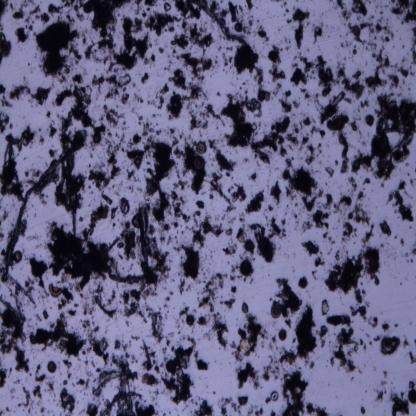Background material: (43, 222, 114, 282), (320, 246, 382, 293), (80, 0, 129, 54), (32, 19, 74, 79), (29, 320, 88, 361), (161, 337, 196, 406), (282, 371, 330, 415), (352, 129, 397, 175), (249, 114, 291, 162), (114, 16, 151, 70), (220, 90, 254, 146), (145, 122, 177, 181), (149, 208, 173, 286), (0, 289, 27, 354), (236, 300, 263, 364), (0, 132, 26, 197), (329, 329, 360, 376), (181, 140, 207, 195), (316, 92, 353, 129), (375, 94, 416, 127), (84, 318, 110, 369), (234, 47, 266, 88), (80, 284, 118, 318), (136, 339, 161, 390), (171, 22, 213, 52), (274, 277, 302, 320), (296, 302, 316, 361), (137, 202, 149, 299), (248, 220, 275, 261), (209, 139, 239, 175), (114, 215, 136, 264), (385, 190, 416, 224), (173, 66, 202, 102), (120, 289, 150, 323), (288, 166, 320, 197), (199, 273, 225, 311), (208, 178, 236, 212), (11, 82, 52, 105), (316, 52, 337, 95), (338, 67, 366, 99), (87, 201, 111, 238), (366, 52, 390, 89), (179, 245, 201, 285), (170, 186, 190, 230), (289, 54, 316, 86), (107, 72, 132, 106), (143, 11, 181, 33), (266, 44, 287, 83), (293, 6, 311, 51), (348, 304, 379, 330), (181, 54, 210, 81), (194, 398, 240, 415), (235, 362, 260, 392), (183, 106, 217, 128), (146, 302, 164, 343), (106, 132, 122, 178), (72, 74, 90, 114), (209, 313, 230, 347), (336, 129, 350, 175), (348, 21, 374, 45), (198, 216, 225, 239), (291, 211, 313, 238), (389, 0, 416, 22), (84, 35, 102, 66), (55, 285, 75, 312), (245, 188, 265, 215), (174, 1, 202, 20), (389, 391, 411, 415), (13, 345, 30, 376), (216, 42, 233, 72), (267, 218, 288, 242), (379, 335, 401, 357), (100, 104, 122, 126), (289, 118, 312, 139), (349, 203, 372, 224), (87, 168, 110, 189), (268, 180, 284, 209), (169, 92, 185, 120), (134, 397, 157, 416), (278, 342, 296, 366), (126, 150, 145, 172), (60, 387, 76, 413), (194, 348, 210, 374), (54, 88, 74, 108), (312, 210, 330, 232), (22, 166, 42, 185), (298, 239, 321, 255), (30, 256, 48, 276), (229, 182, 247, 202), (360, 224, 375, 247), (340, 221, 358, 240), (375, 21, 395, 38), (326, 316, 352, 329), (84, 136, 97, 162), (157, 82, 169, 110), (17, 385, 30, 410), (300, 194, 318, 212), (247, 97, 264, 116), (13, 26, 29, 46), (263, 360, 279, 380), (20, 123, 35, 144), (67, 45, 82, 66), (0, 110, 13, 134), (0, 85, 13, 109), (280, 90, 294, 112), (256, 23, 270, 45), (192, 227, 206, 249), (410, 25, 416, 74), (318, 321, 328, 350), (335, 1, 351, 19), (38, 278, 51, 300), (101, 54, 116, 73), (228, 263, 241, 284), (110, 350, 126, 367), (380, 219, 394, 238), (24, 291, 38, 310), (62, 355, 73, 379), (118, 196, 131, 216), (351, 1, 368, 16), (45, 378, 57, 399), (334, 195, 353, 208), (388, 72, 400, 92), (322, 190, 334, 210), (332, 206, 348, 221), (123, 351, 140, 365), (35, 363, 47, 382), (29, 6, 43, 22), (12, 5, 26, 21), (372, 387, 385, 404), (312, 25, 323, 45), (347, 176, 358, 196), (60, 0, 78, 12), (125, 167, 140, 181), (305, 145, 316, 164), (302, 85, 313, 104), (31, 384, 44, 400), (40, 191, 52, 208), (352, 289, 364, 306), (174, 318, 186, 335), (47, 2, 64, 14), (110, 207, 119, 229), (218, 298, 236, 309), (221, 243, 236, 256), (0, 365, 8, 389), (374, 172, 393, 182), (164, 301, 173, 322), (357, 101, 370, 115), (0, 0, 10, 18), (268, 333, 278, 351), (91, 75, 107, 86), (0, 23, 9, 42), (20, 221, 29, 240), (321, 297, 330, 316), (100, 192, 113, 205), (77, 376, 90, 389), (111, 182, 123, 196), (24, 279, 36, 293), (288, 133, 300, 147), (359, 340, 371, 354), (179, 274, 187, 295), (76, 4, 85, 22), (139, 70, 149, 86), (338, 38, 351, 50), (250, 404, 263, 416), (178, 304, 189, 318), (201, 328, 212, 342), (86, 401, 97, 415), (304, 358, 318, 369), (398, 65, 409, 79), (323, 233, 337, 244), (245, 16, 255, 31), (402, 331, 411, 347), (0, 207, 8, 225), (173, 239, 182, 255), (290, 96, 299, 112), (94, 159, 107, 170), (39, 13, 52, 24), (120, 339, 133, 350), (66, 10, 76, 24), (163, 58, 173, 72), (132, 132, 142, 146), (188, 396, 202, 406), (22, 0, 36, 10), (201, 265, 211, 279), (47, 124, 57, 138), (125, 134, 134, 149), (300, 133, 309, 148), (407, 350, 416, 365), (238, 226, 245, 245), (132, 93, 144, 104), (146, 96, 157, 108), (315, 257, 326, 269), (259, 330, 271, 341), (326, 167, 336, 180), (195, 198, 205, 211), (127, 332, 140, 342), (311, 127, 327, 135), (248, 172, 259, 183), (361, 177, 372, 188), (80, 32, 88, 47), (136, 114, 146, 126), (396, 178, 406, 190), (229, 341, 237, 355), (114, 336, 121, 352), (350, 44, 360, 55), (148, 287, 158, 298), (28, 232, 39, 242), (244, 0, 254, 11), (284, 317, 294, 328), (357, 194, 368, 204), (143, 1, 161, 7), (208, 250, 217, 262), (148, 53, 156, 66), (198, 316, 208, 326), (310, 271, 320, 281), (67, 308, 77, 318), (185, 282, 194, 293), (226, 226, 235, 237), (284, 18, 295, 27), (126, 184, 134, 196), (27, 17, 33, 32), (120, 120, 129, 130), (382, 322, 391, 332), (372, 333, 382, 342), (379, 40, 387, 51), (10, 386, 16, 400), (318, 144, 324, 158), (136, 186, 144, 196), (230, 284, 238, 294), (241, 154, 249, 164), (262, 207, 268, 220), (202, 253, 208, 265), (47, 149, 56, 157), (43, 309, 49, 321), (166, 235, 172, 247), (167, 330, 175, 339), (151, 390, 160, 398), (55, 112, 63, 121), (78, 214, 85, 224), (164, 1, 171, 11), (40, 406, 47, 416), (267, 354, 275, 362), (248, 277, 256, 285), (265, 395, 272, 404), (409, 177, 416, 185), (381, 378, 388, 386), (38, 137, 46, 144), (12, 378, 21, 384), (165, 340, 172, 347), (88, 189, 95, 196), (382, 370, 388, 378), (290, 336, 298, 342), (108, 126, 112, 138), (284, 6, 290, 14), (360, 405, 366, 413), (165, 296, 173, 302), (334, 159, 340, 167), (268, 204, 274, 212), (27, 408, 33, 416), (162, 346, 166, 358), (46, 111, 51, 120), (382, 181, 387, 190), (216, 88, 221, 97), (411, 247, 416, 256), (0, 230, 4, 241), (412, 337, 416, 348), (120, 146, 126, 153), (191, 308, 198, 314), (158, 47, 164, 54), (62, 379, 68, 386), (290, 265, 296, 272), (404, 251, 410, 258), (365, 299, 370, 307), (379, 240, 384, 248), (74, 301, 79, 309), (11, 3, 15, 12), (88, 161, 92, 170), (152, 112, 157, 119), (283, 1, 288, 8), (125, 320, 130, 327), (168, 410, 173, 416), (6, 406, 12, 411), (212, 391, 217, 397), (271, 411, 277, 416), (0, 410, 5, 416), (89, 372, 94, 378), (224, 274, 229, 280), (170, 290, 174, 297), (394, 235, 399, 240), (393, 322, 398, 327), (38, 243, 43, 248), (153, 401, 158, 406), (82, 350, 87, 355), (369, 342, 373, 348), (270, 296, 274, 302), (10, 368, 13, 376), (27, 61, 31, 67), (410, 258, 414, 264), (294, 202, 298, 208), (244, 276, 247, 283), (93, 378, 98, 382), (286, 203, 290, 208), (359, 371, 363, 376), (49, 306, 53, 311), (400, 239, 403, 245), (148, 163, 152, 167), (386, 39, 390, 43), (284, 212, 288, 216), (88, 184, 91, 189), (163, 413, 167, 416), (401, 280, 403, 286), (39, 128, 42, 132), (150, 44, 152, 48)
Cellulose filter fibre: (1, 132, 85, 280), (62, 110, 86, 238), (190, 0, 249, 46), (98, 365, 135, 414), (385, 123, 416, 163), (104, 263, 151, 287)
Diatom: (237, 260, 254, 278), (47, 284, 63, 298), (194, 154, 206, 172), (270, 302, 282, 320), (0, 39, 12, 57), (237, 392, 250, 407), (406, 386, 416, 405), (364, 113, 376, 128), (165, 359, 177, 374), (184, 314, 196, 328), (233, 19, 244, 33), (46, 361, 57, 375), (244, 239, 254, 254), (196, 142, 207, 154), (270, 390, 281, 401), (278, 330, 288, 342), (14, 250, 22, 265), (298, 278, 308, 289), (258, 90, 266, 102), (93, 132, 101, 144), (283, 170, 291, 182)
